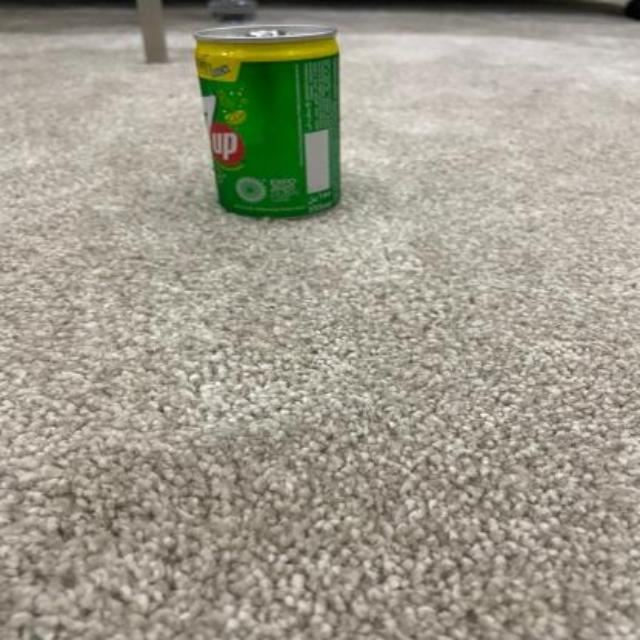metal: (195, 25, 340, 217)
